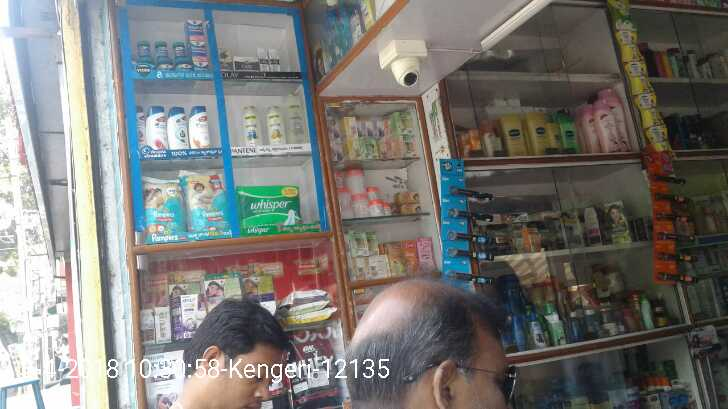vicks: (135, 37, 190, 72), (190, 11, 208, 72)
